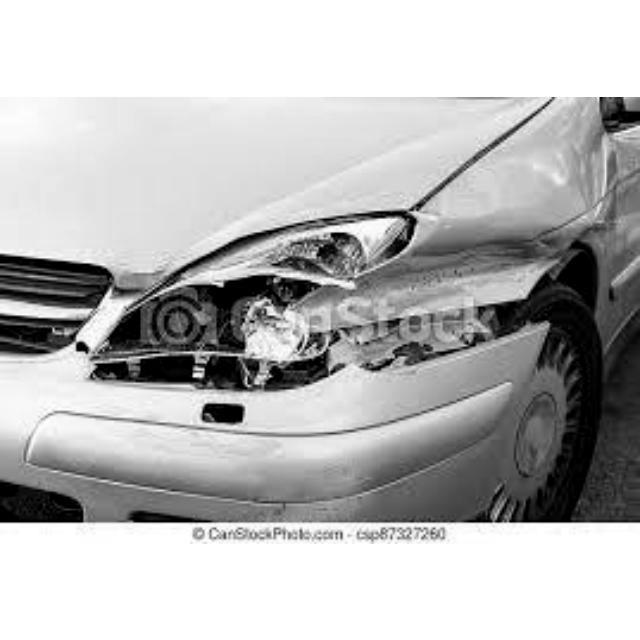Headlight-damage: (98, 204, 407, 377)
fender-dent: (380, 173, 620, 353)
